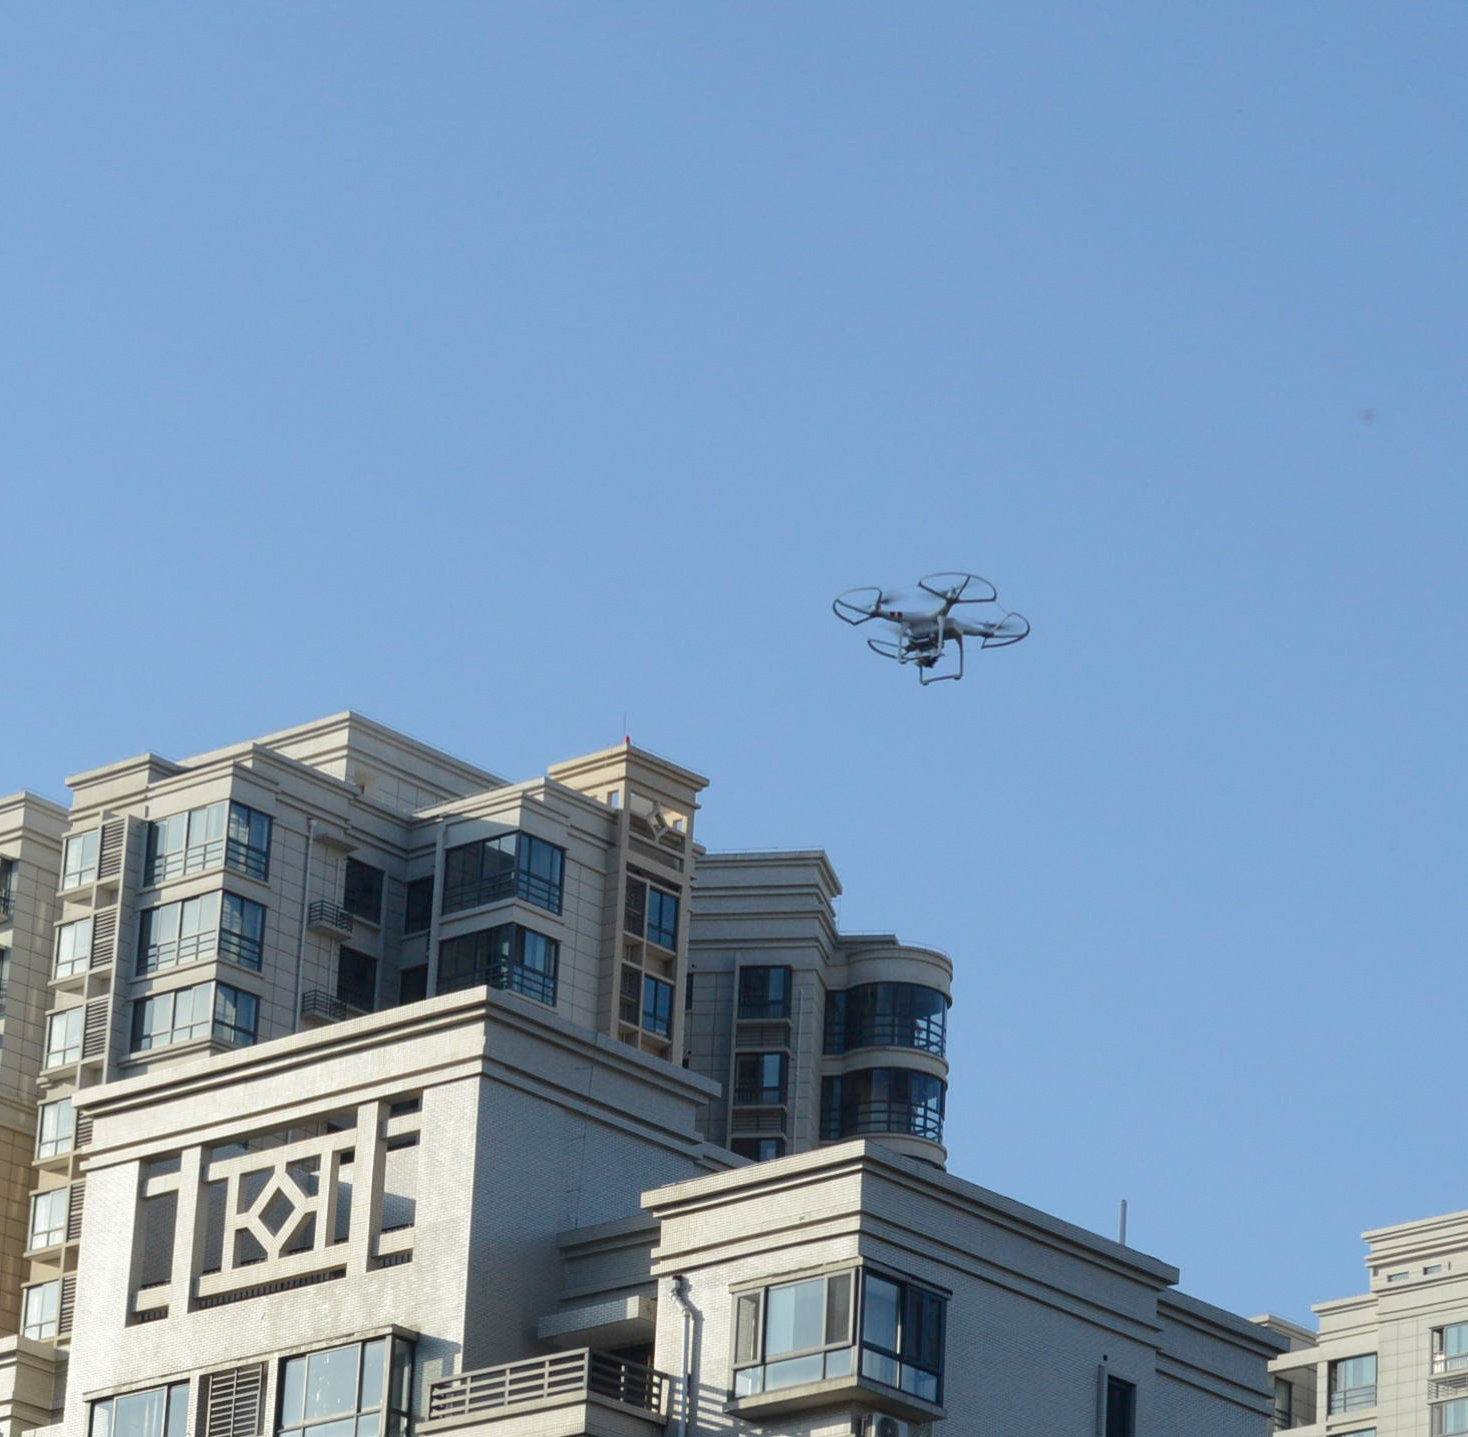DJI: (831, 570, 1031, 687)
